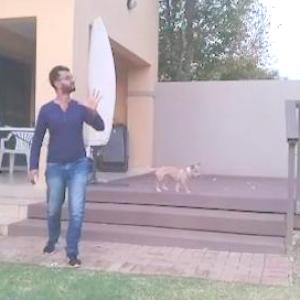follow_hand: (76, 82, 108, 113)
